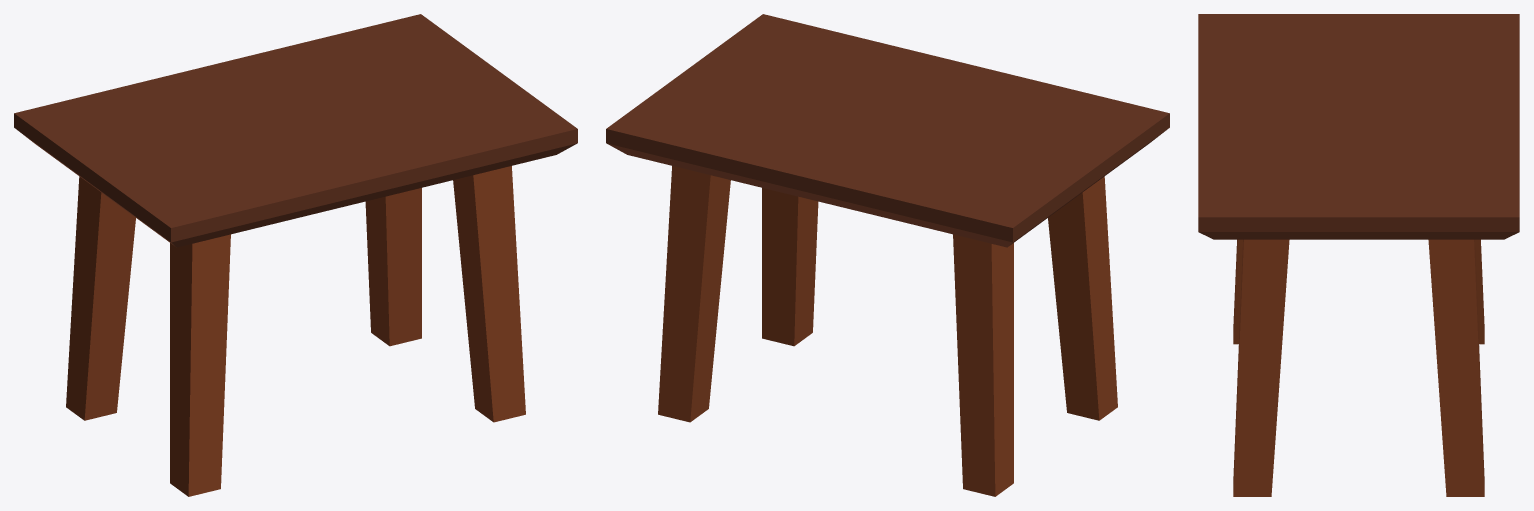
File: BarTafel2.fbx
3 views of the same model, side by side, from view 1: azimuth 30°, elevation 25°; view 2: azimuth 150°, elevation 25°; view 3: azimuth 270°, elevation 25° (orthographic). The views are drawn at different scales.
Visible parts, largest first — view 1: Tafel; view 2: Tafel; view 3: Tafel.
Part boxes in pixels (left/top/right/bottom): Tafel: left=14, top=14, right=577, bottom=496; Tafel: left=606, top=14, right=1169, bottom=496; Tafel: left=1198, top=14, right=1519, bottom=496.
Size of the model in its own units: 1.5 by 1.02 by 1.
